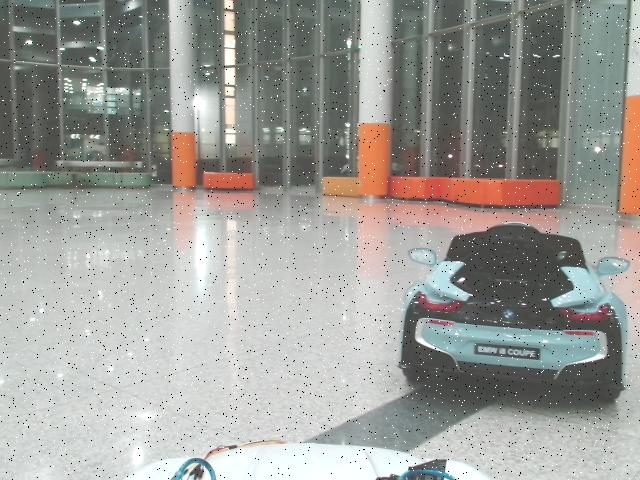car: (398, 221, 630, 409)
